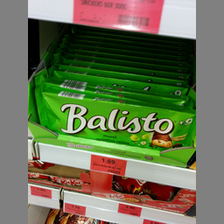chocolate: (34, 82, 196, 155)
